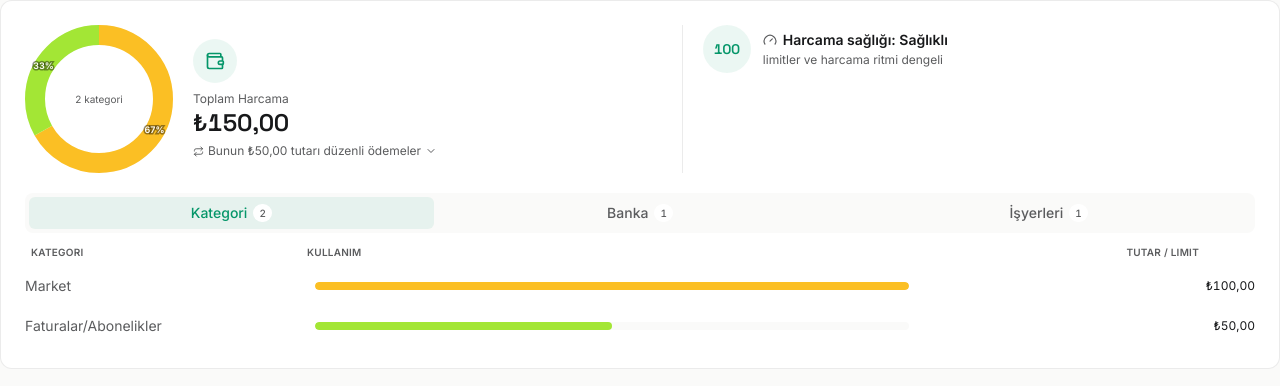
Test: SpendingBreakdown › switches between category, bank, and merchant tabs
The image size is (1280, 386).
Expected: the text "Market" is shown, [25,277,71,294]
Expected: the text "Akbank" is not shown
Click the button "Banka 1" at (640, 213), box [438,197,842,229]
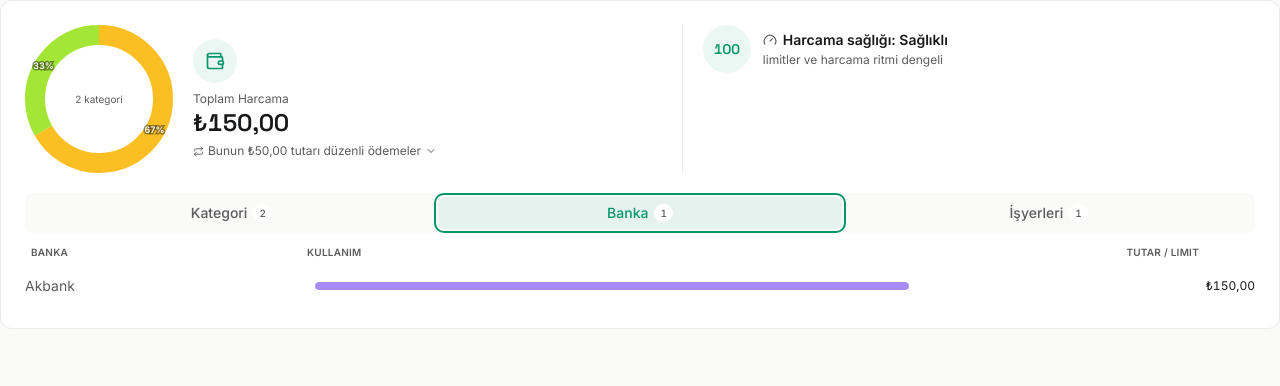
Now the text "Akbank" is shown, box [25,277,75,294]
Click the button "İşyerleri 1" at (1049, 213), box [846,197,1251,229]
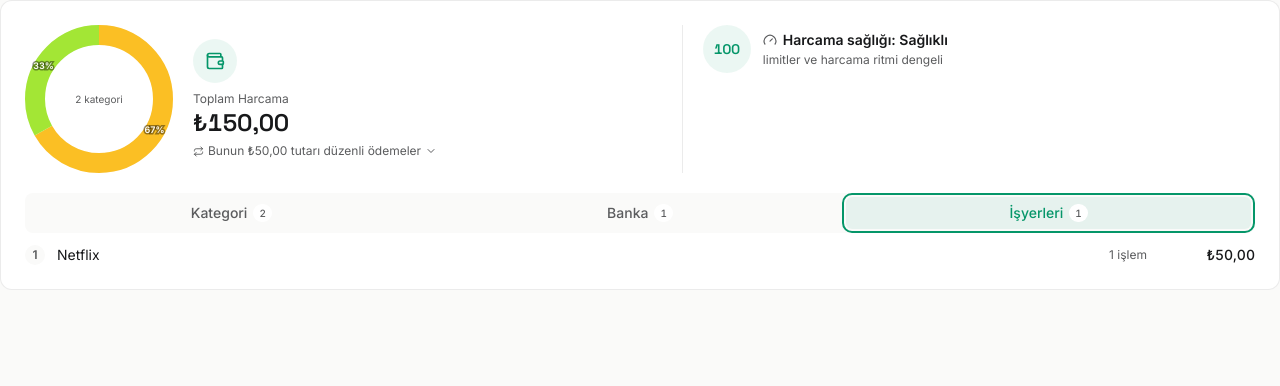
Now the text "1 işlem" is shown, box [1109,247,1147,263]
